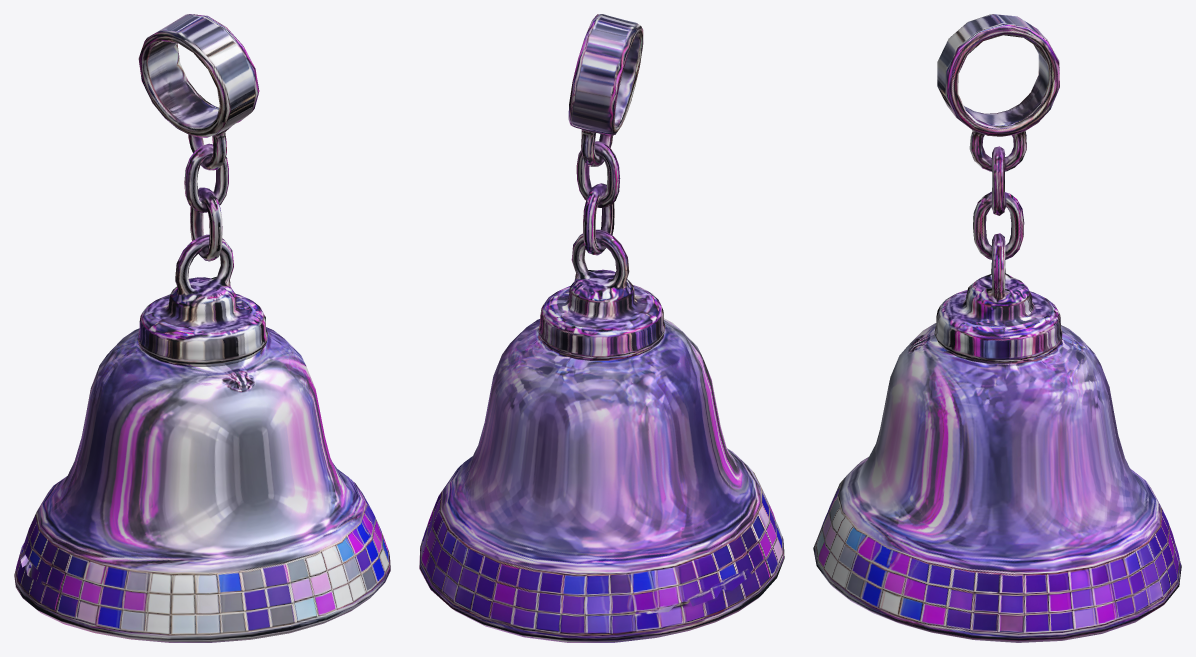
Rendered from tripo_convert_40ac104b-ff97-4d45-9aa8-70e2594c48b0.fbx.
3 views of the same model, side by side, from view 1: azimuth 30°, elevation 25°; view 2: azimuth 150°, elevation 25°; view 3: azimuth 270°, elevation 25° (orthographic). The views are drawn at different scales.
Visible parts, largest first — view 1: tripo_node_40ac104b; view 2: tripo_node_40ac104b; view 3: tripo_node_40ac104b.
Part boxes in pixels (x1,y1,x2,y2): tripo_node_40ac104b: (14,14,390,642); tripo_node_40ac104b: (419,14,784,642); tripo_node_40ac104b: (813,14,1181,642).
Bounding box in the file's own units: 0.5689 × 0.9785 × 0.5646.
1 material, 1 textured.
